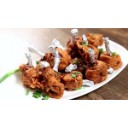chicken_lollipop: (66, 27, 100, 59), (38, 57, 65, 97), (84, 47, 109, 82), (99, 37, 124, 70), (21, 53, 38, 90)
